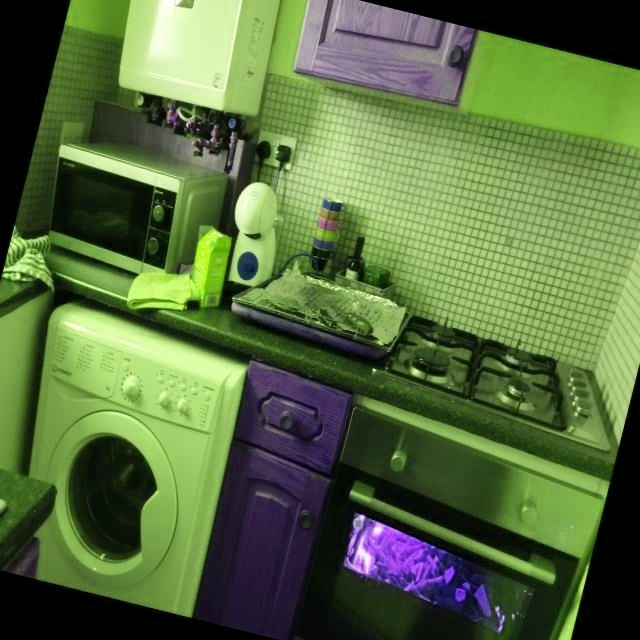cabinet: (194, 362, 352, 640), (297, 0, 470, 104)
countertop: (139, 309, 616, 471), (0, 469, 56, 569)
microwave: (50, 139, 229, 275)
oven: (293, 395, 609, 640)
sofa: (382, 318, 587, 432)
